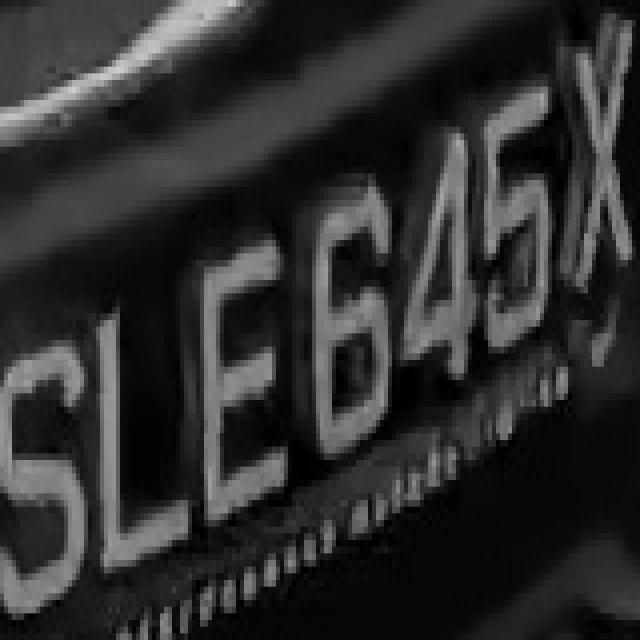4: (392, 107, 484, 420)
5: (472, 73, 556, 367)
6: (308, 174, 400, 474)
E: (184, 227, 296, 540)
L: (88, 280, 180, 593)
S: (4, 314, 100, 634)
X: (552, 7, 640, 320)
